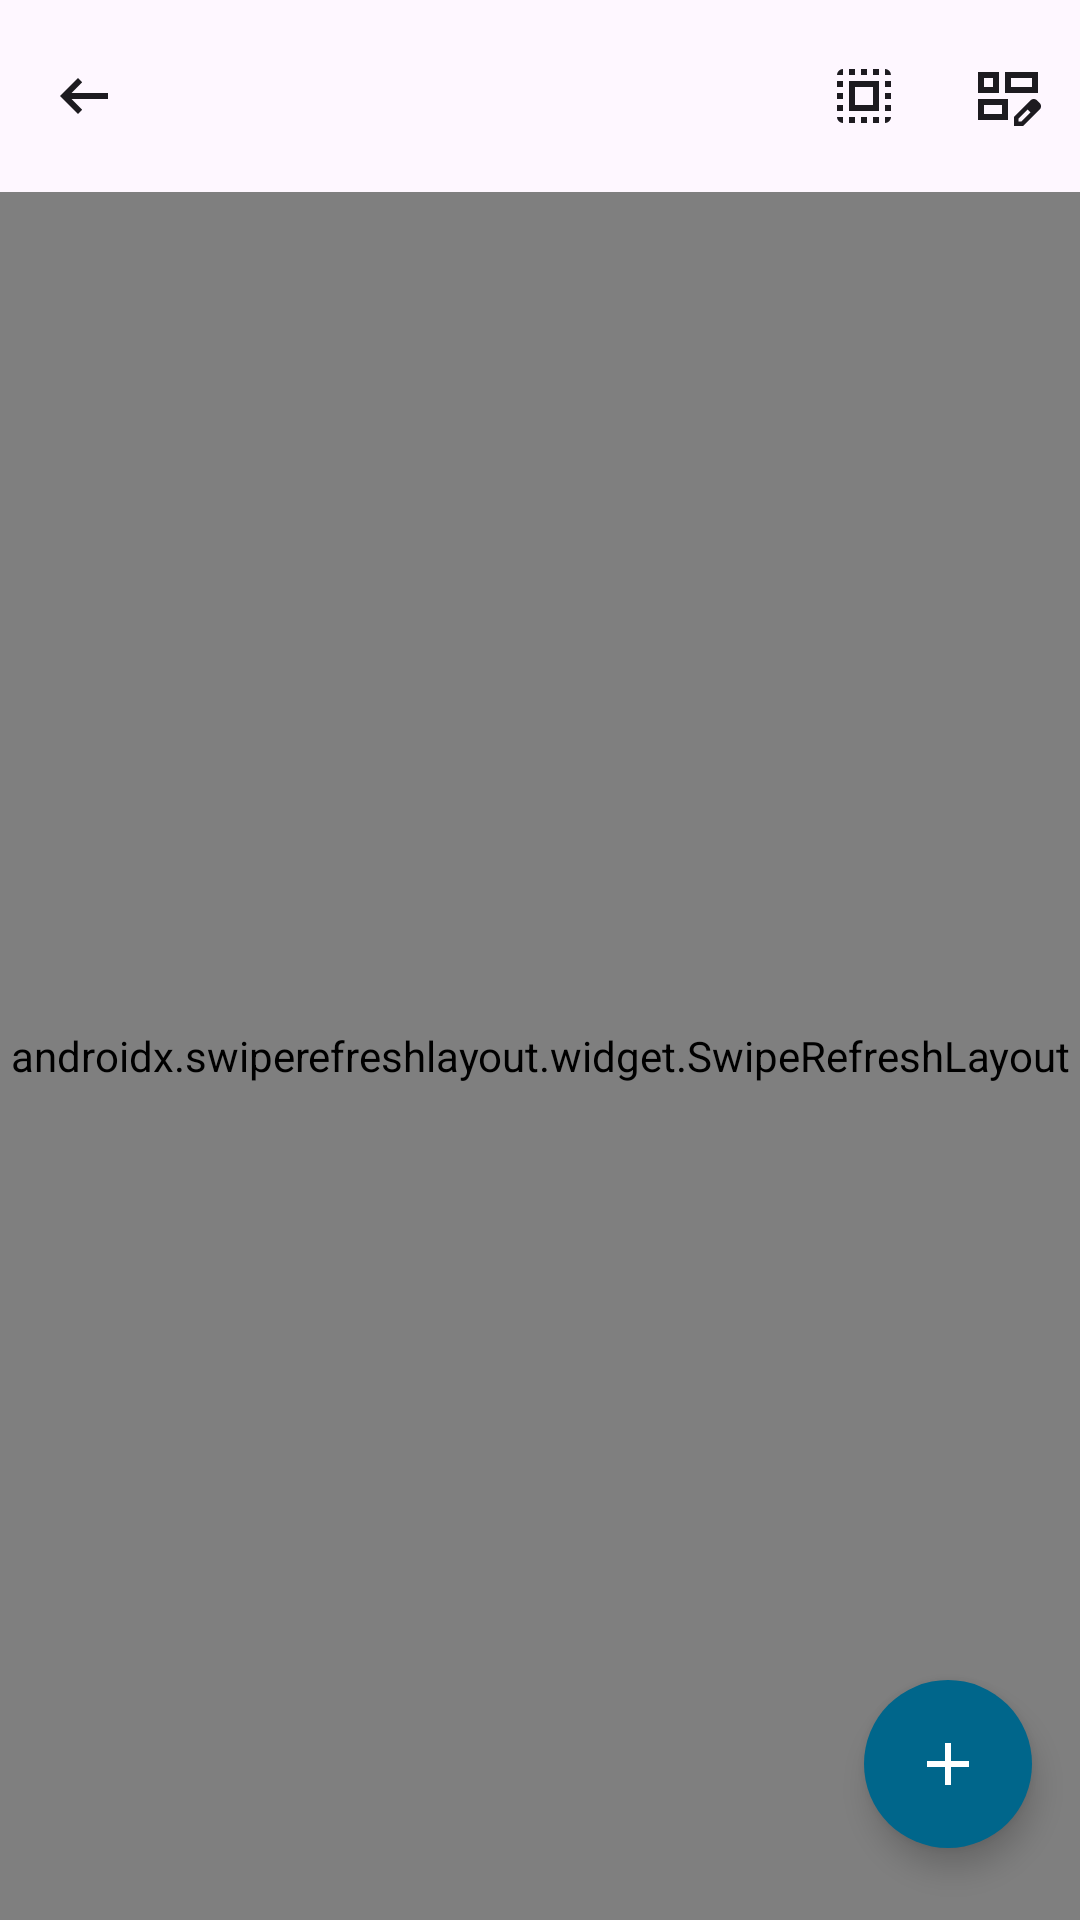

Locate icon controls on the screen. Image size 1080w x 1920h, boxes as rect(x1, y1, x2, y2).
add: rect(864, 1680, 1032, 1848)
